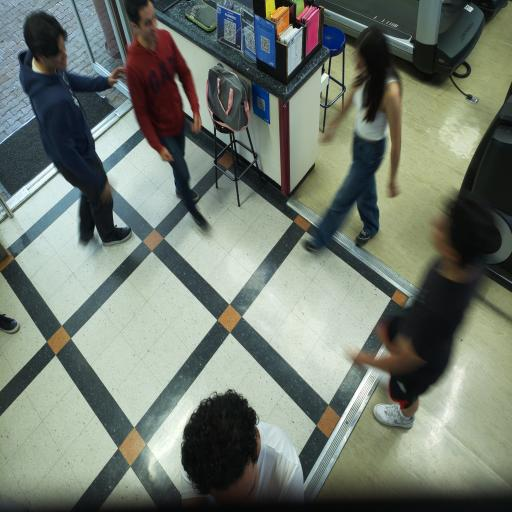person: (355, 195, 496, 428), (19, 11, 131, 245), (305, 26, 401, 252), (126, 0, 207, 229), (181, 390, 303, 505), (0, 314, 20, 333)
